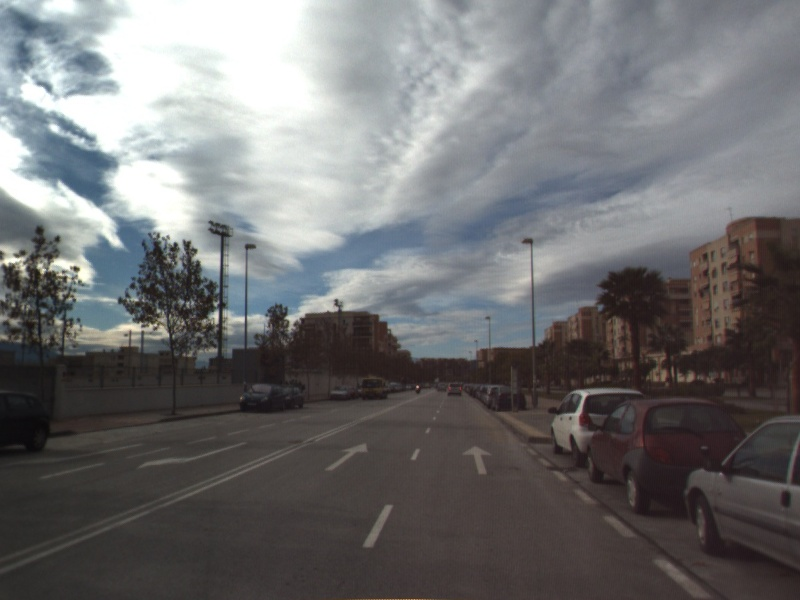STRAIGHT: (323, 441, 370, 473), (460, 444, 495, 476)
